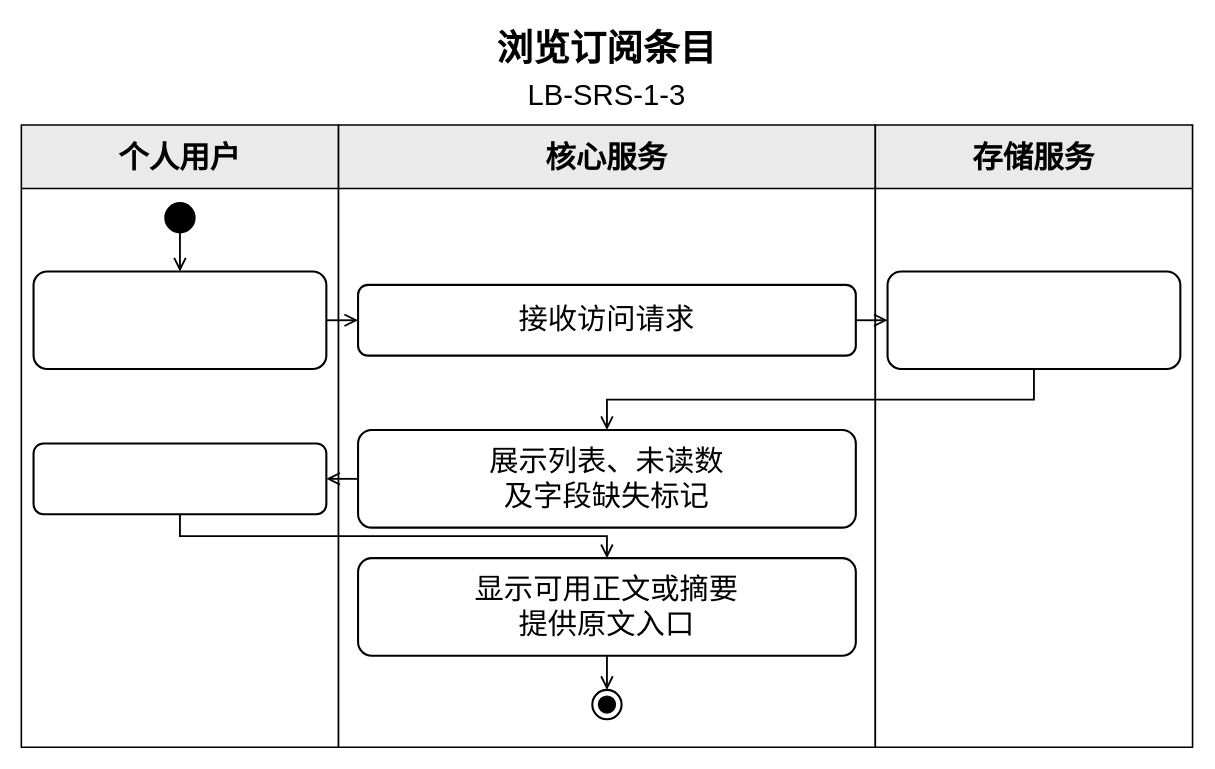
This 1215x769 diagram has some shape labels left out. Each missing label, with the centre of its shape:
"打开条目" goes at [179,478].
"读取条目、阅读状态 及筛选数据" goes at [1033,320].
"选择全部或单个来源 设置筛选与排序" goes at [179,320].
